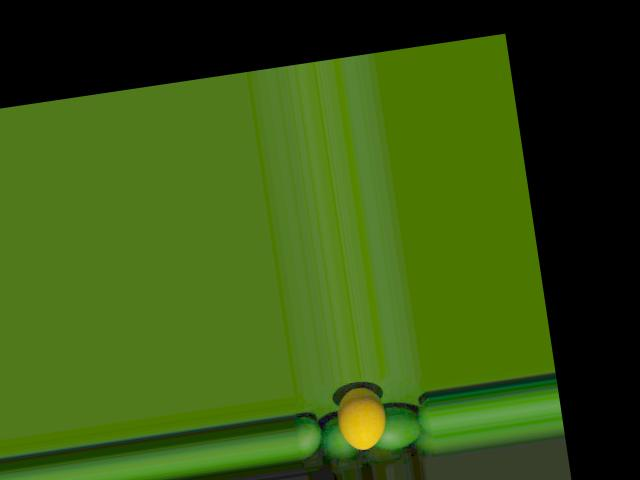egg: (334, 383, 390, 452)
